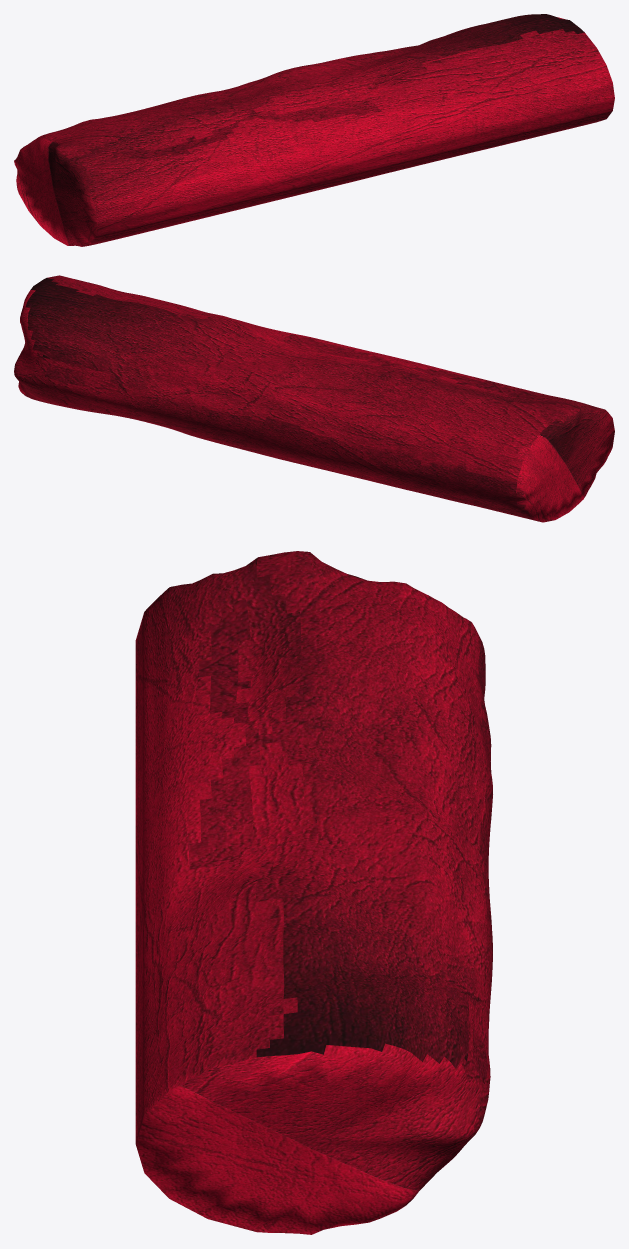
The model's file is Wall.fbx.
3 views of the same model, one above another, from view 1: azimuth 30°, elevation 25°; view 2: azimuth 150°, elevation 25°; view 3: azimuth 270°, elevation 25° (orthographic). The views are drawn at different scales.
Parts seen in each view (by area): view 1: Cylinder; view 2: Cylinder; view 3: Cylinder.
Part boxes in pixels (x1,y1,x2,y2): Cylinder: (14,14,614,246); Cylinder: (14,275,614,522); Cylinder: (135,551,492,1234).
Size of the model in its own units: 3034 by 528 by 906.
